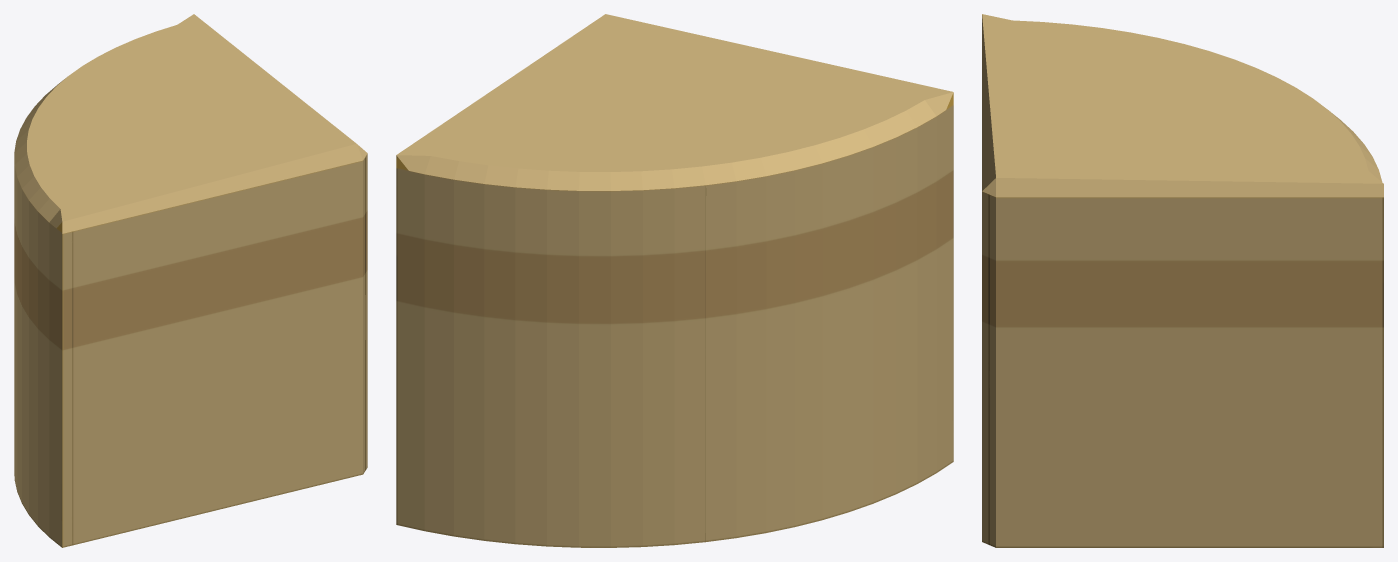
Rendered from squareB.fbx.
3 views of the same model, side by side, from view 1: azimuth 30°, elevation 25°; view 2: azimuth 150°, elevation 25°; view 3: azimuth 270°, elevation 25° (orthographic). The views are drawn at different scales.
Parts seen in each view (by area): view 1: Cube.493; view 2: Cube.493; view 3: Cube.493.
Part boxes in pixels (x1,y1,x2,y2): Cube.493: [14, 14, 367, 547]; Cube.493: [396, 14, 953, 547]; Cube.493: [982, 14, 1383, 547].
Bounding box in the file's own units: 200 × 200 × 200.
